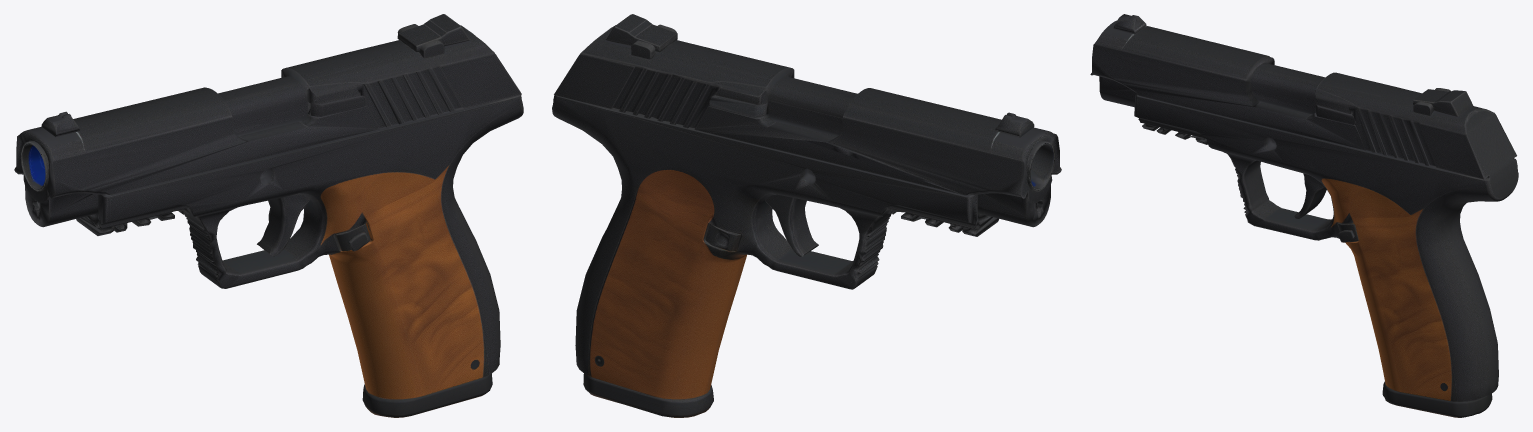
The model's file is weapon-sidearm.glb.
3 views of the same model, side by side, from view 1: azimuth 30°, elevation 25°; view 2: azimuth 150°, elevation 25°; view 3: azimuth 330°, elevation 25° (orthographic). The views are drawn at different scales.
Size of the model in its own units: 0.9575 by 0.7134 by 0.1421.
1 material, 1 textured.
